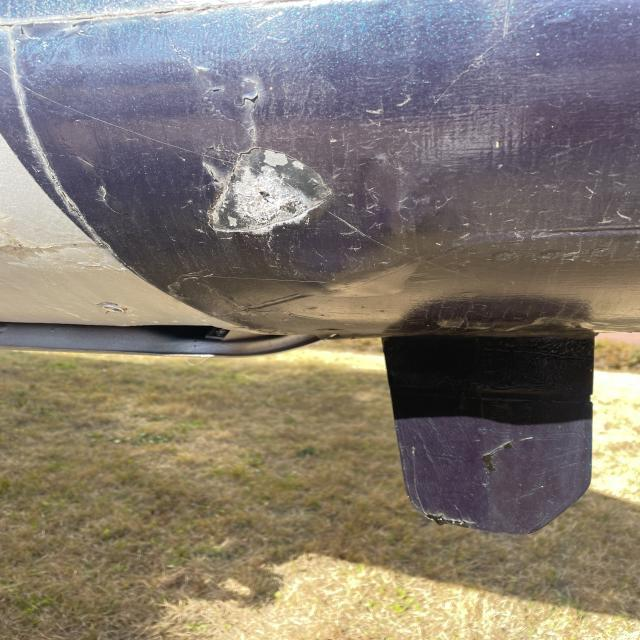crack: (189, 87, 267, 113)
dent: (202, 151, 341, 233)
